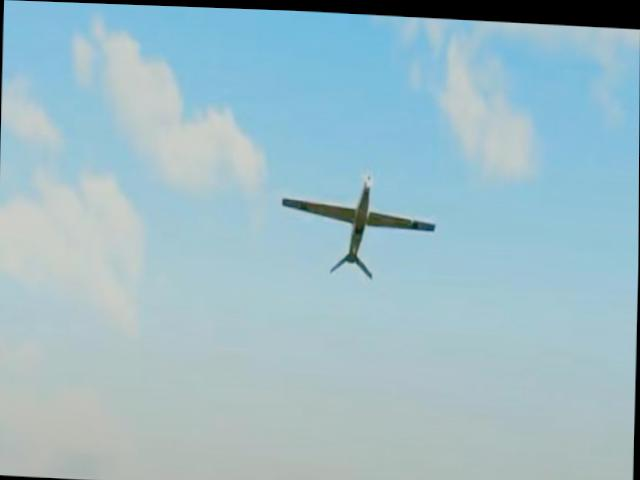iha: (280, 156, 438, 281)
